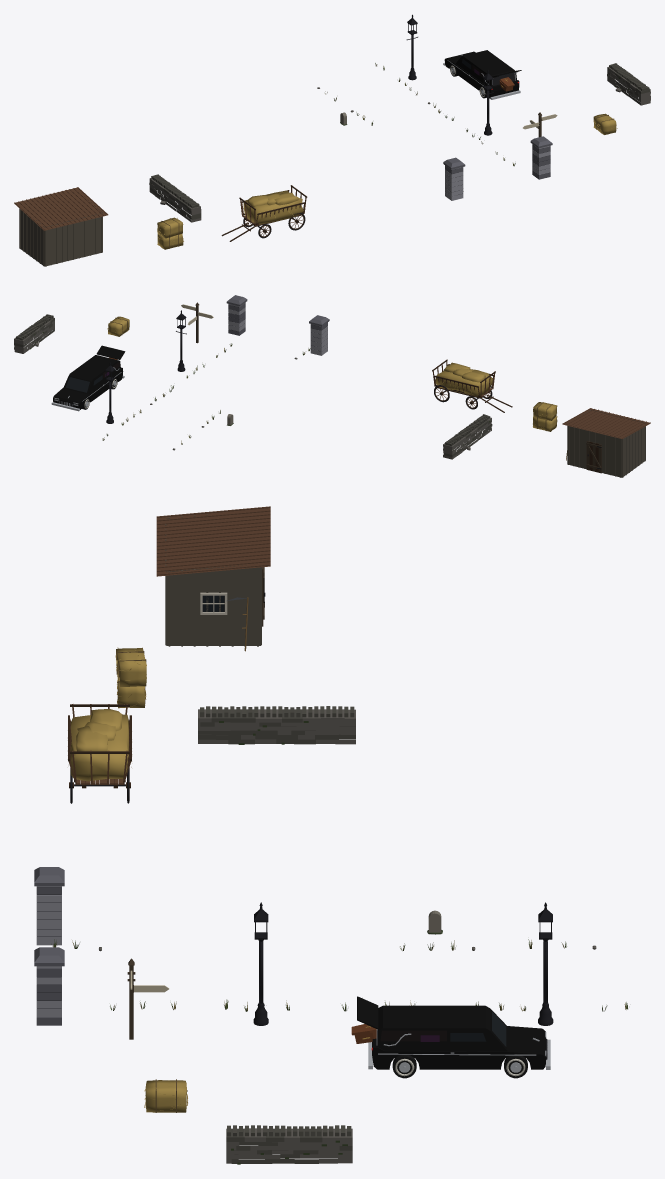
Rendered from hg-southroad.glb.
The picture shows the model from 3 angles, top to bottom: view 1: azimuth 30°, elevation 25°; view 2: azimuth 150°, elevation 25°; view 3: azimuth 270°, elevation 25°; orthographic projection. The views are drawn at different scales.
Visible parts, largest first — view 1: hg-southroad; view 2: hg-southroad; view 3: hg-southroad.
Part boxes in pixels (x1,y1,x2,y2): hg-southroad: (14,14,650,266); hg-southroad: (14,295,650,477); hg-southroad: (34,506,627,1164).
Size of the model in its own units: 42.96 by 4.25 by 18.87.
